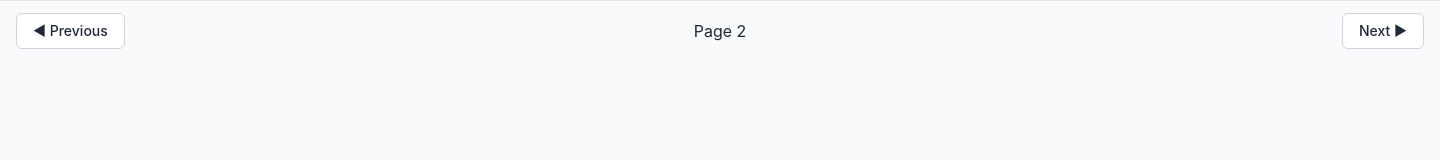
Test: Pagination › should move focus to the other button when Previous reaches page 1
Click the button "◀ Previous".
click(70, 31)  # box [16,13,125,49]
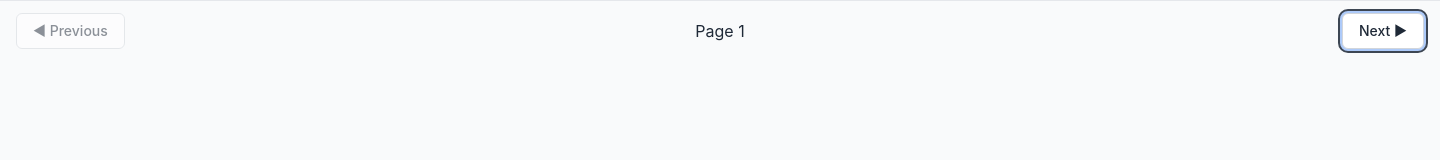
Now the button "◀ Previous" is disabled, box [16,13,125,49]
